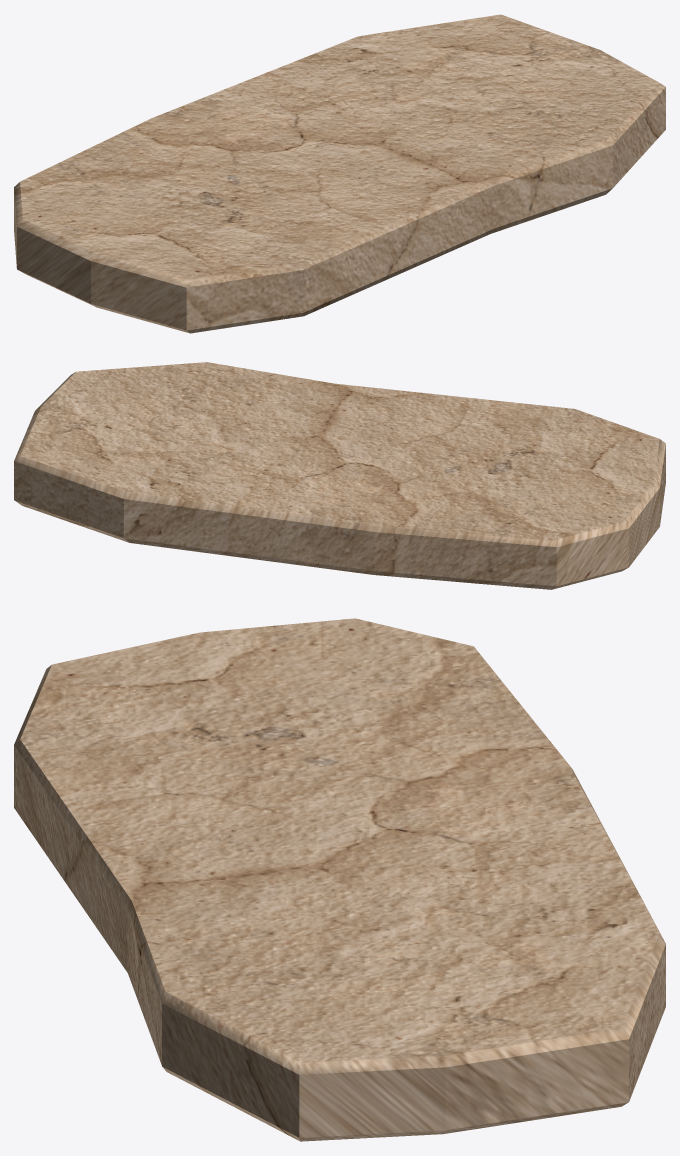
The model's file is stepping_stone_3.glb.
3 views of the same model, one above another, from view 1: azimuth 30°, elevation 25°; view 2: azimuth 150°, elevation 25°; view 3: azimuth 270°, elevation 25° (orthographic). The views are drawn at different scales.
Visible parts, largest first — view 1: LivingIsland_SteppingStone_3; view 2: LivingIsland_SteppingStone_3; view 3: LivingIsland_SteppingStone_3.
Part boxes in pixels (box(x1,y1,x2,y2)): LivingIsland_SteppingStone_3: box(14, 14, 665, 333); LivingIsland_SteppingStone_3: box(14, 362, 665, 589); LivingIsland_SteppingStone_3: box(14, 618, 665, 1141).
Size of the model in its own units: 0.8316 by 0.0697 by 0.5065.
1 material, 1 textured.
